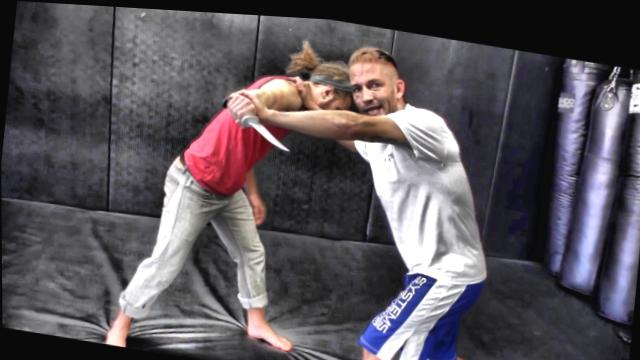knife: (215, 87, 298, 155)
